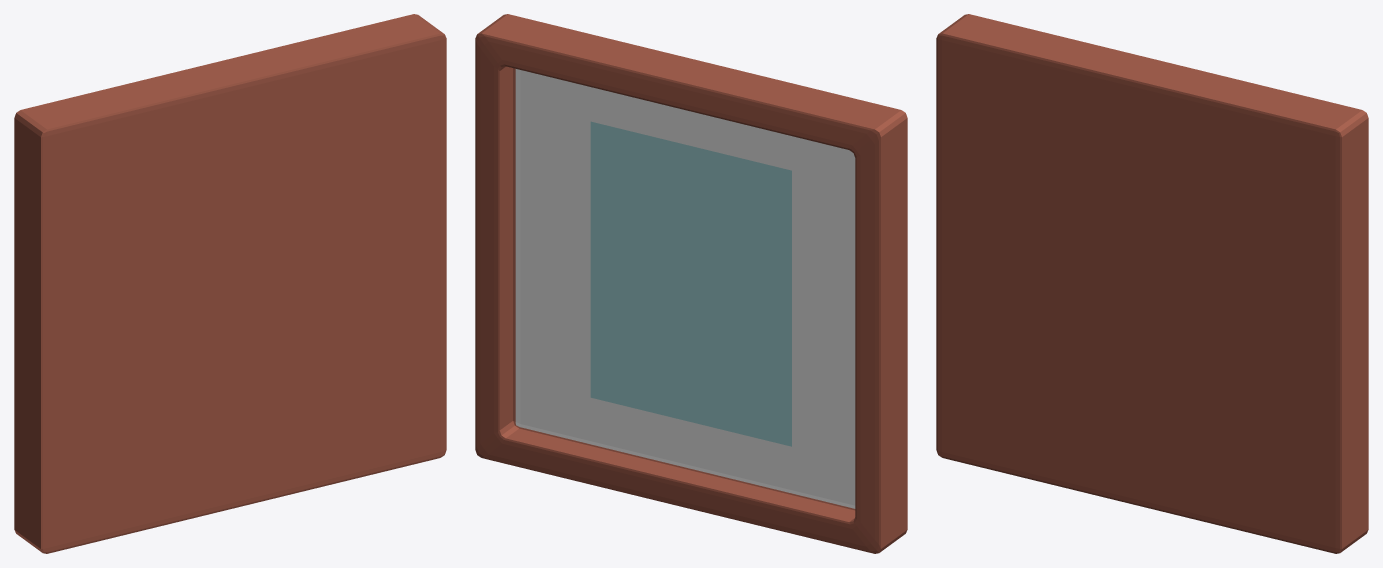
File: tablo8.fbx
The picture shows the model from 3 angles, left to right: view 1: azimuth 30°, elevation 25°; view 2: azimuth 150°, elevation 25°; view 3: azimuth 330°, elevation 25°; orthographic projection.
Parts seen in each view (by area): view 1: Cube; view 2: Cube; view 3: Cube.
Boxes of the visible parts, x1,y1,x2,y2 form: Cube: [14, 14, 446, 553]; Cube: [475, 14, 907, 553]; Cube: [936, 14, 1368, 553].
Size of the model in its own units: 702 by 702 by 84.01.
